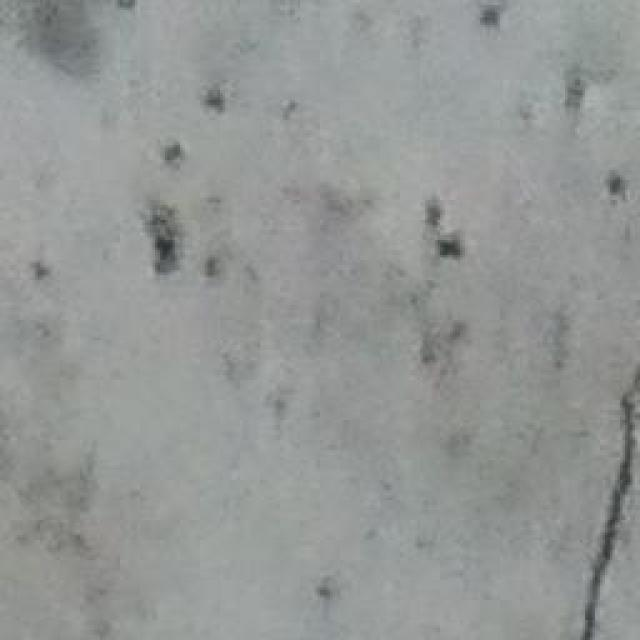Longitudinal: (586, 330, 640, 640)
